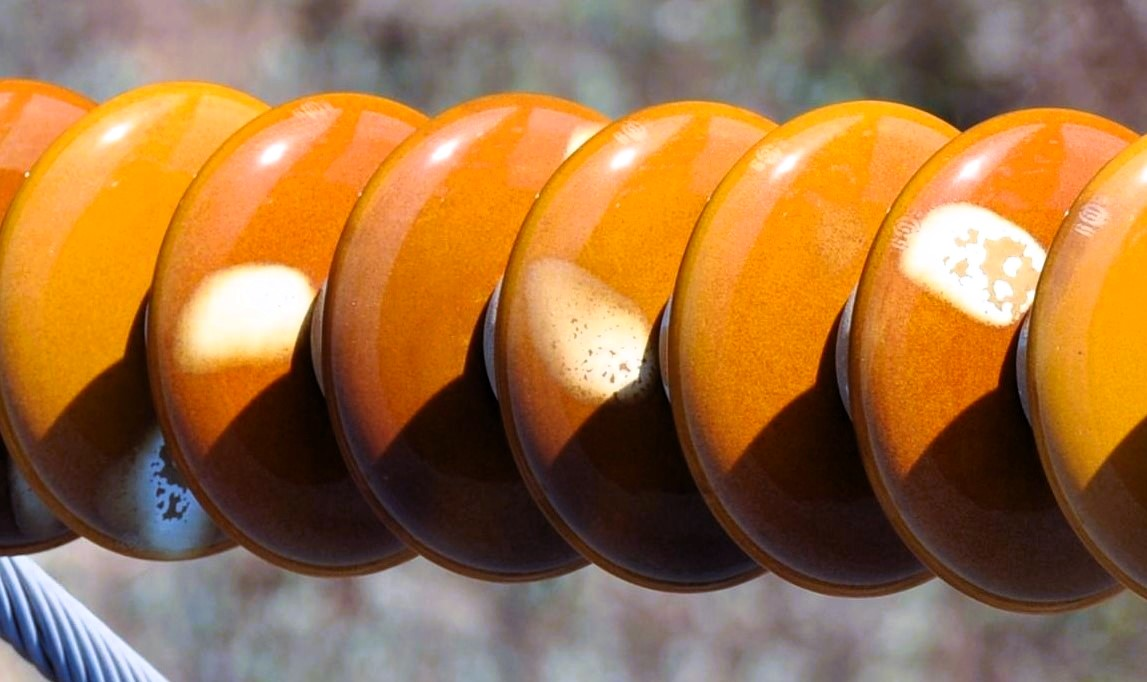Insulator flashover: (846, 94, 1143, 607), (489, 95, 784, 592), (145, 77, 433, 581)
